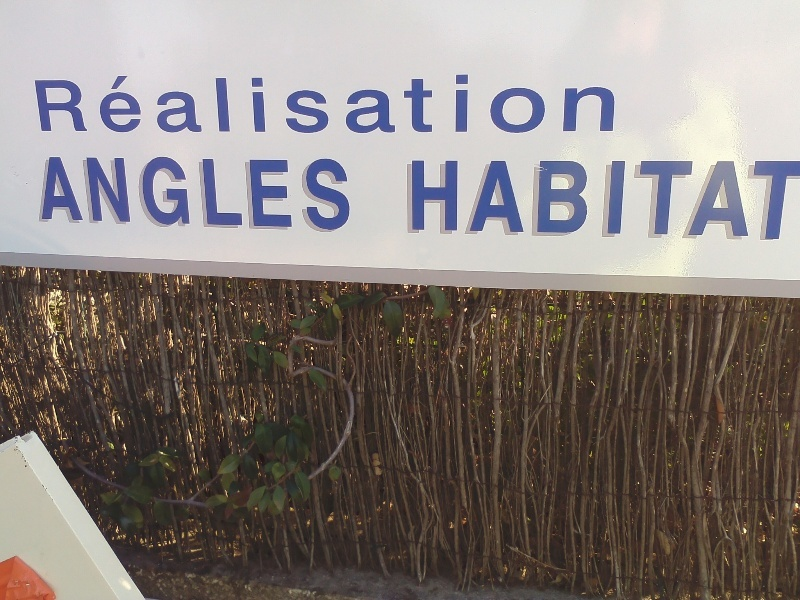text: (417, 151, 432, 243), (433, 151, 448, 243), (449, 151, 464, 243), (465, 151, 480, 243), (481, 151, 496, 243), (497, 151, 512, 243), (513, 151, 528, 243), (529, 151, 544, 243), (545, 151, 560, 243), (561, 151, 576, 243), (577, 151, 592, 243), (593, 151, 608, 243), (609, 151, 624, 243), (625, 151, 640, 243), (641, 151, 656, 243), (657, 151, 672, 243), (673, 151, 688, 243), (689, 151, 704, 243), (705, 151, 720, 243), (721, 151, 736, 243), (737, 151, 752, 243), (753, 151, 768, 243), (769, 151, 784, 243), (785, 151, 799, 243), (337, 154, 353, 234), (49, 154, 64, 234), (65, 154, 80, 234), (81, 154, 96, 234), (97, 154, 112, 234), (113, 154, 128, 234), (129, 154, 144, 234), (145, 154, 160, 234), (161, 154, 176, 234), (177, 154, 192, 234), (193, 154, 208, 234), (209, 154, 224, 234), (225, 154, 240, 234), (241, 154, 256, 234), (257, 154, 272, 234), (273, 154, 288, 234), (289, 154, 304, 234), (305, 154, 320, 234), (321, 154, 336, 234), (33, 72, 48, 138), (49, 72, 64, 138), (65, 72, 80, 138), (81, 72, 96, 138), (97, 72, 112, 138), (113, 72, 128, 138), (129, 72, 144, 138), (145, 72, 160, 138), (161, 72, 176, 138), (177, 72, 192, 138), (193, 72, 208, 138), (209, 72, 224, 138), (225, 72, 240, 138), (241, 72, 256, 138), (257, 72, 272, 138), (273, 72, 288, 138), (289, 72, 304, 138), (305, 72, 320, 138), (321, 72, 336, 138), (337, 72, 352, 138), (353, 72, 368, 138), (369, 72, 384, 138), (385, 72, 400, 138), (401, 72, 416, 138), (417, 72, 432, 138), (433, 72, 448, 138), (449, 72, 464, 138), (465, 72, 480, 138), (481, 72, 496, 138), (497, 72, 512, 138), (513, 72, 528, 138), (529, 72, 544, 138), (545, 72, 560, 138), (561, 72, 576, 138), (577, 72, 592, 138), (593, 72, 608, 138), (609, 72, 619, 138), (410, 151, 416, 243), (45, 154, 48, 234), (31, 72, 32, 138)
